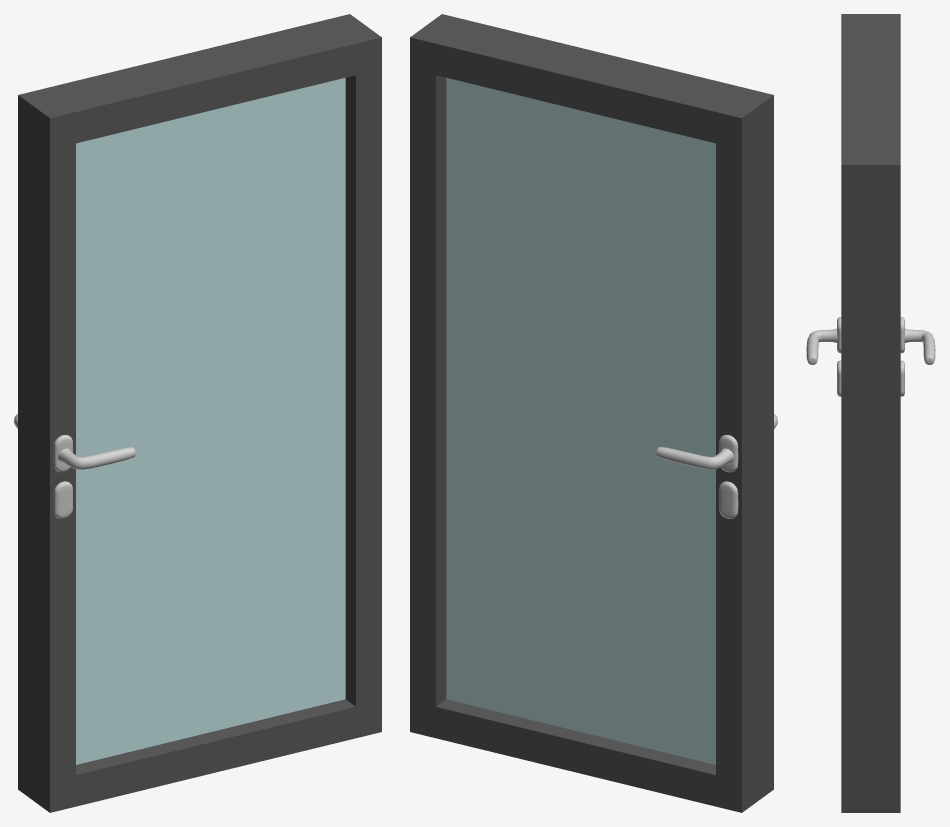
File: Door.fbx
3 views of the same model, side by side, from view 1: azimuth 30°, elevation 25°; view 2: azimuth 150°, elevation 25°; view 3: azimuth 270°, elevation 25° (orthographic). The views are drawn at different scales.
Visible parts, largest first — view 1: Door1; view 2: Door1; view 3: Door1.
Boxes of the visible parts, x1,y1,x2,y2 form: Door1: (14,14,381,812); Door1: (410,14,777,812); Door1: (806,14,935,812).
Size of the model in its own units: 1.5 by 3 by 0.5416.
